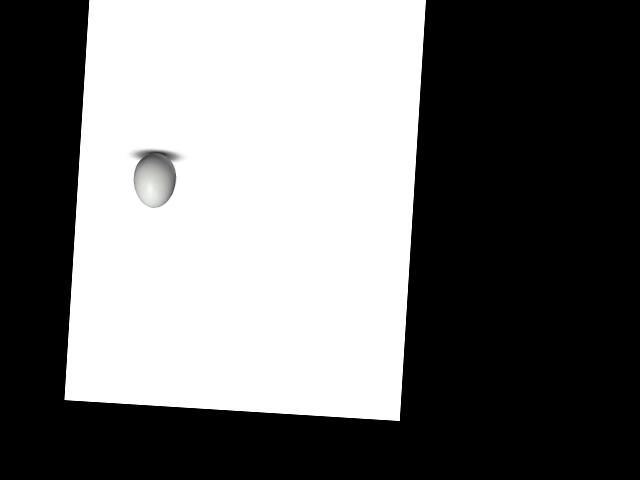egg: (131, 152, 176, 209)
